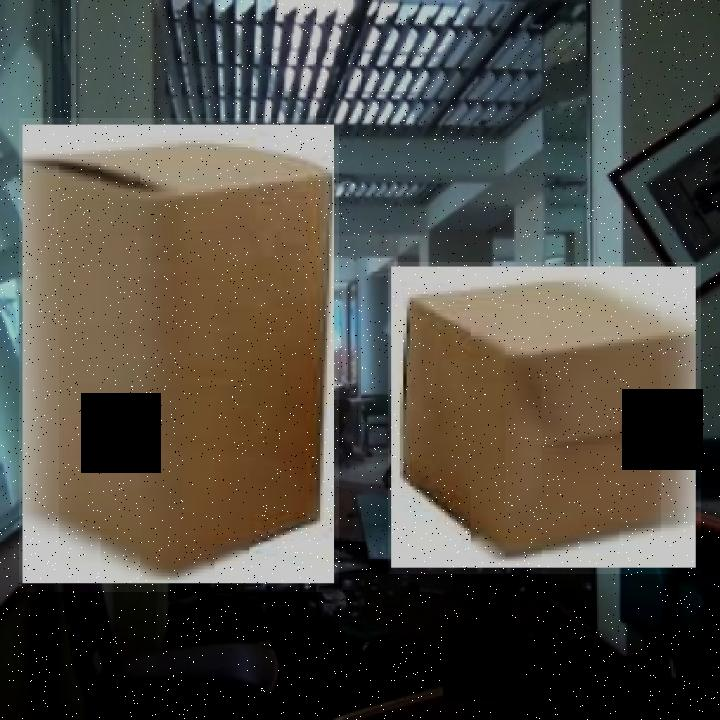box: (19, 118, 339, 592), (388, 262, 701, 574)
